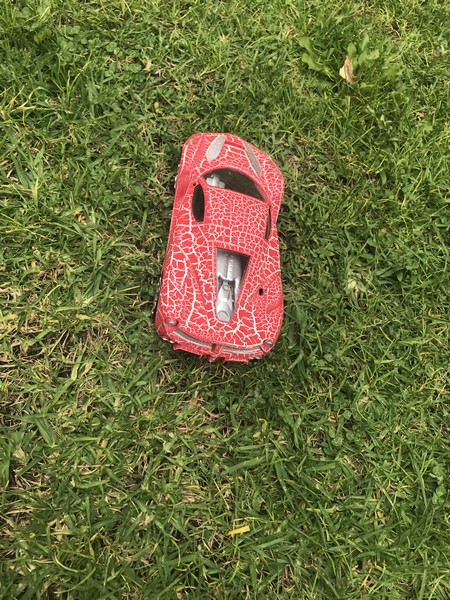RC: (153, 131, 288, 364)
